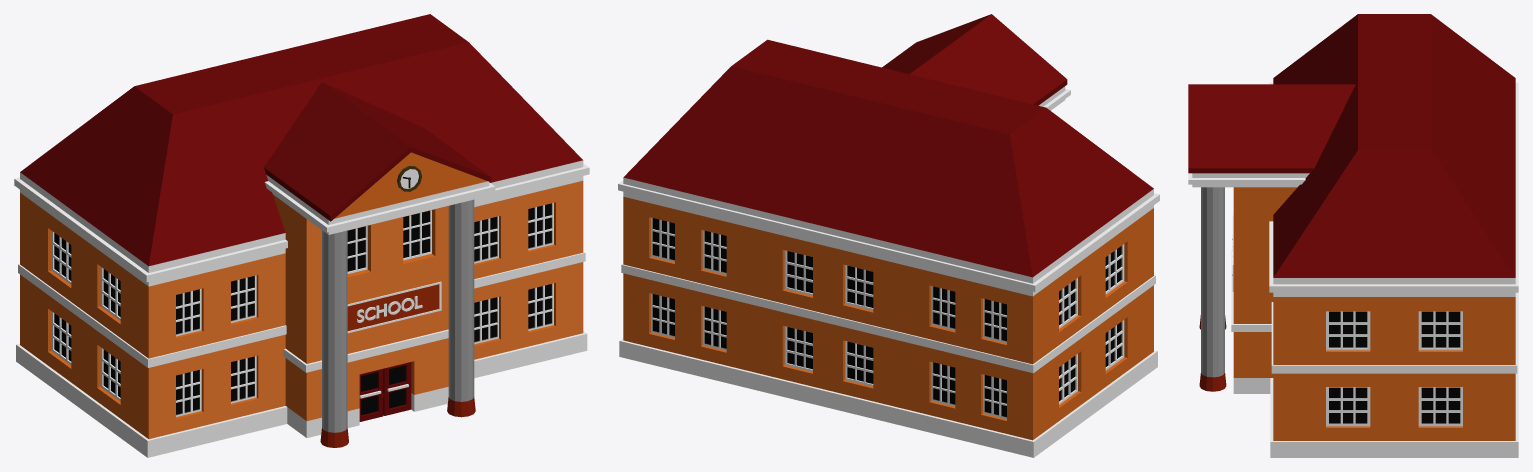
The model's file is School.fbx.
3 renders of one model, left to right at view 1: azimuth 30°, elevation 25°; view 2: azimuth 150°, elevation 25°; view 3: azimuth 270°, elevation 25°, orthographic. The views are drawn at different scales.
Visible parts, largest first — view 1: Cube; view 2: Cube; view 3: Cube.
Boxes of the visible parts, box(x1,y1,x2,y2) form: Cube: box(14, 14, 589, 457); Cube: box(618, 14, 1159, 457); Cube: box(1188, 14, 1518, 457).
Size of what is drawn, in the model's own units: 27.32 by 17.21 by 18.74.
